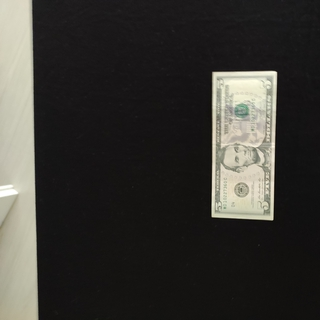5USDFront: (211, 71, 277, 220)
